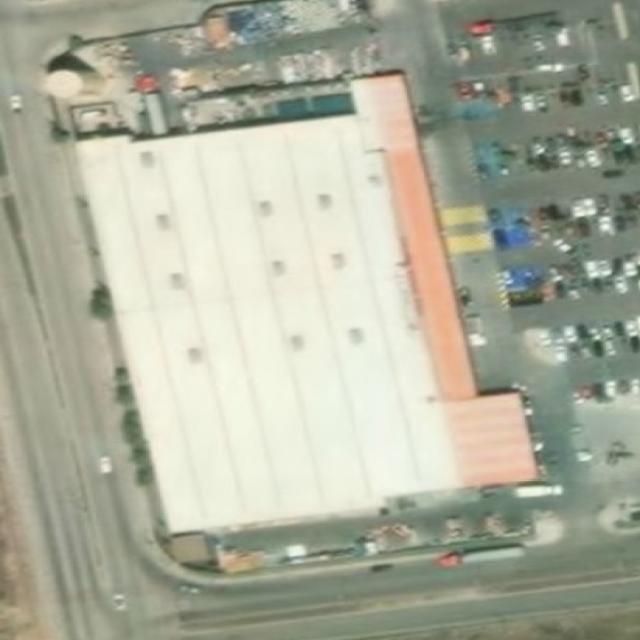Batiment: (76, 76, 536, 533)
